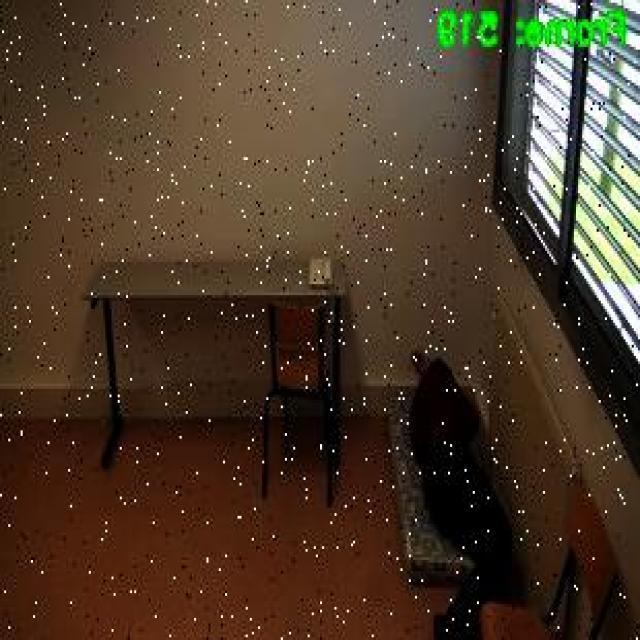fall: (403, 342, 520, 637)
